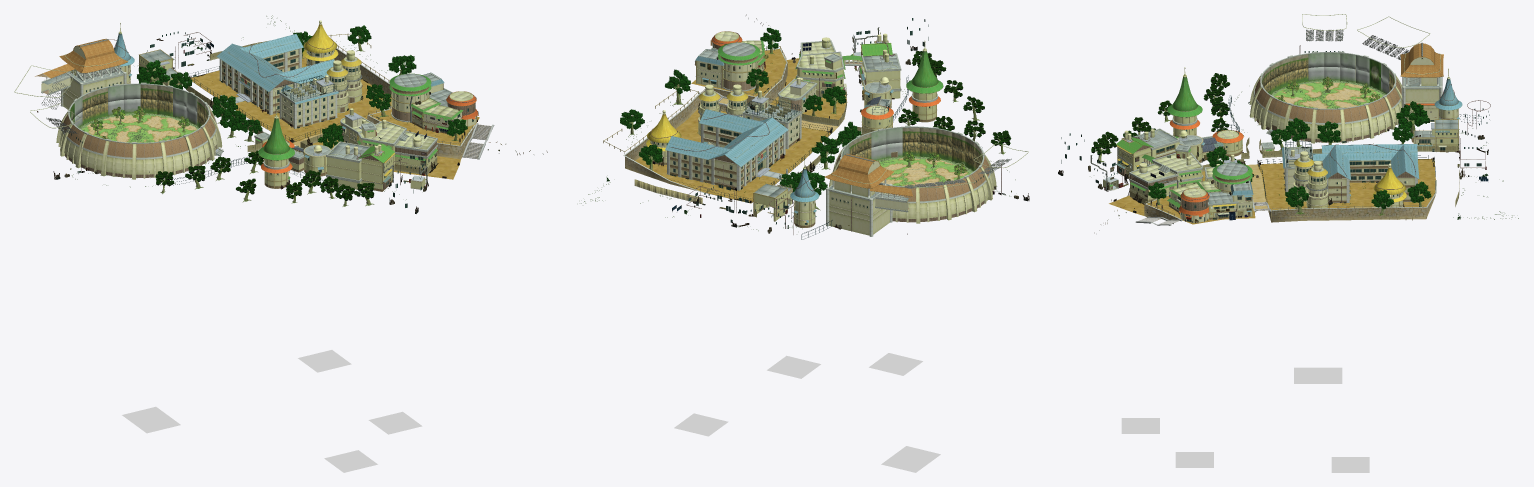
3 views of the same model, side by side, from view 1: azimuth 30°, elevation 25°; view 2: azimuth 150°, elevation 25°; view 3: azimuth 270°, elevation 25° (orthographic). The views are drawn at different scales.
Visible parts, largest first — view 1: sa00aobj01_001, sa00pflo01_001, sa00aaaobj01_001, sa00iflo00_001, Walls, Quad_Chuunin Exam Stage, sa00hobj07_001.002, ha005_04_001, Floor, sa00hobj01_001, sa00hobj10_001, sa00aobj05_001 (+8 smaller); view 2: sa00aobj01_001, sa00pflo01_001, sa00aaaobj01_001, sa00iflo00_001, Walls, Quad_Chuunin Exam Stage, sa00hobj07_001.002, sa00aobj05_001, ha005_04_001, Floor, sa00hobj10_001, sa00aWindows (+5 smaller); view 3: sa00aobj01_001, sa00pflo01_001, sa00aaaobj01_001, sa00iflo00_001, Walls, Quad_Chuunin Exam Stage, sa00hobj07_001.002, sa00aobj05_001, Floor, sa00hobj01_001, ha005_04_001, sa00aart04_001 (+8 smaller).
Boxes of the visible parts, x1=… form: sa00aobj01_001: x1=41, y1=24, x2=476, y2=189; sa00pflo01_001: x1=37, y1=48, x2=494, y2=191; sa00aaaobj01_001: x1=125, y1=33, x2=478, y2=188; sa00iflo00_001: x1=191, y1=48, x2=479, y2=189; Walls: x1=69, y1=84, x2=208, y2=127; Quad_Chuunin Exam Stage: x1=122, y1=350, x2=422, y2=472; sa00hobj07_001.002: x1=14, y1=20, x2=476, y2=185; ha005_04_001: x1=155, y1=150, x2=374, y2=200; Floor: x1=82, y1=114, x2=196, y2=142; sa00hobj01_001: x1=62, y1=111, x2=215, y2=157; sa00hobj10_001: x1=35, y1=38, x2=128, y2=78; sa00aobj05_001: x1=139, y1=56, x2=436, y2=181; sa00aobj01_001: x1=646, y1=31, x2=996, y2=235; sa00pflo01_001: x1=653, y1=31, x2=990, y2=236; sa00aaaobj01_001: x1=603, y1=31, x2=936, y2=227; sa00iflo00_001: x1=623, y1=48, x2=860, y2=205; Walls: x1=842, y1=127, x2=982, y2=171; Quad_Chuunin Exam Stage: x1=674, y1=353, x2=940, y2=472; sa00hobj07_001.002: x1=650, y1=27, x2=1028, y2=234; sa00aobj05_001: x1=754, y1=45, x2=936, y2=220; ha005_04_001: x1=898, y1=51, x2=1011, y2=145; Floor: x1=879, y1=158, x2=970, y2=186; sa00hobj10_001: x1=824, y1=153, x2=912, y2=196; sa00aWindows: x1=654, y1=18, x2=992, y2=224; sa00aobj01_001: x1=1103, y1=57, x2=1462, y2=222; sa00pflo01_001: x1=1117, y1=51, x2=1458, y2=225; sa00aaaobj01_001: x1=1109, y1=103, x2=1459, y2=222; sa00iflo00_001: x1=1103, y1=159, x2=1436, y2=224; Walls: x1=1261, y1=53, x2=1394, y2=94; Quad_Chuunin Exam Stage: x1=1121, y1=367, x2=1369, y2=472; sa00hobj07_001.002: x1=1090, y1=14, x2=1490, y2=222; sa00aobj05_001: x1=1117, y1=116, x2=1458, y2=198; Floor: x1=1273, y1=82, x2=1382, y2=108; sa00hobj01_001: x1=1255, y1=78, x2=1401, y2=122; ha005_04_001: x1=1091, y1=73, x2=1229, y2=155; sa00aart04_001: x1=1058, y1=102, x2=1488, y2=233.
Bounding box in the file's own units: 191 × 165 × 205.
45 materials, 44 textured.
